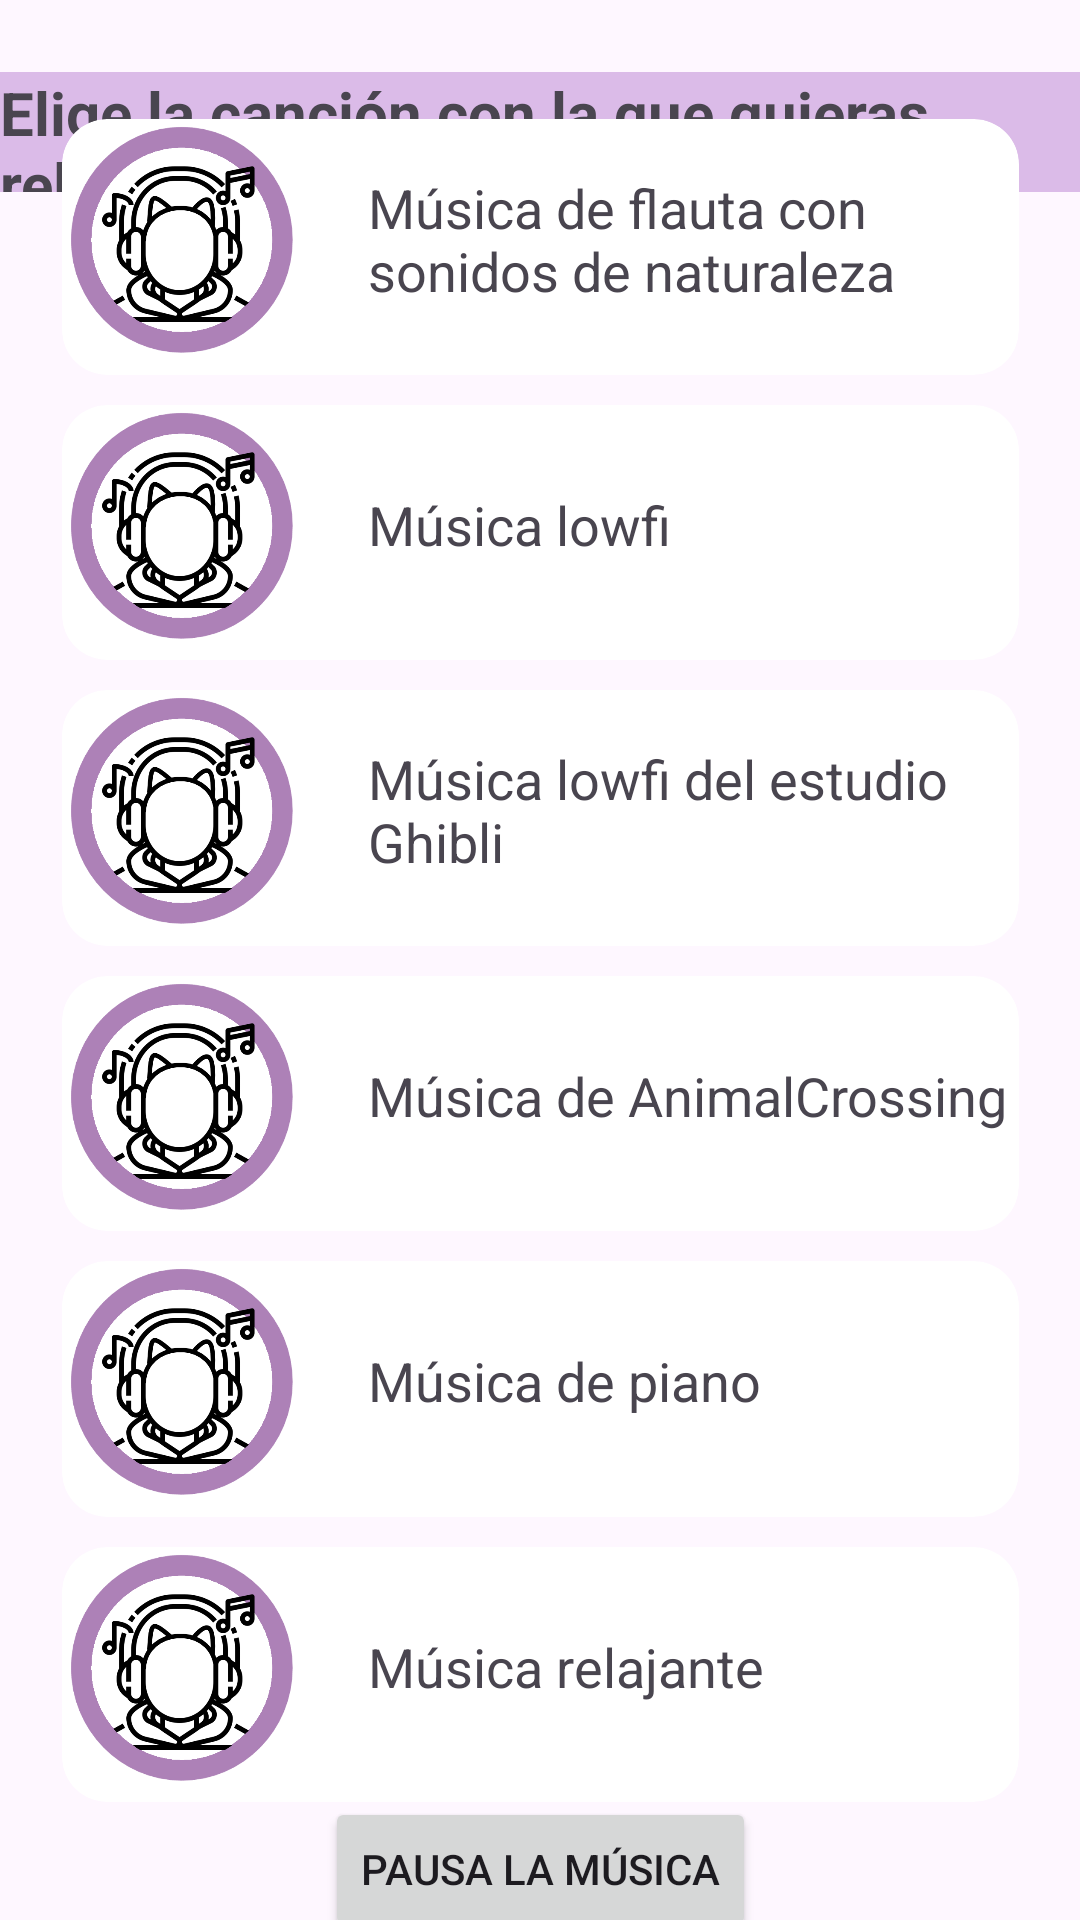

Icon bounding boxes for this 1080x1920 phone screenshot, format box=[x1, y1, x2, y2]:
iconomusica: box=[71, 127, 293, 353], box=[71, 413, 293, 639], box=[71, 698, 293, 924], box=[71, 984, 293, 1210], box=[71, 1269, 293, 1495], box=[71, 1555, 293, 1781]
